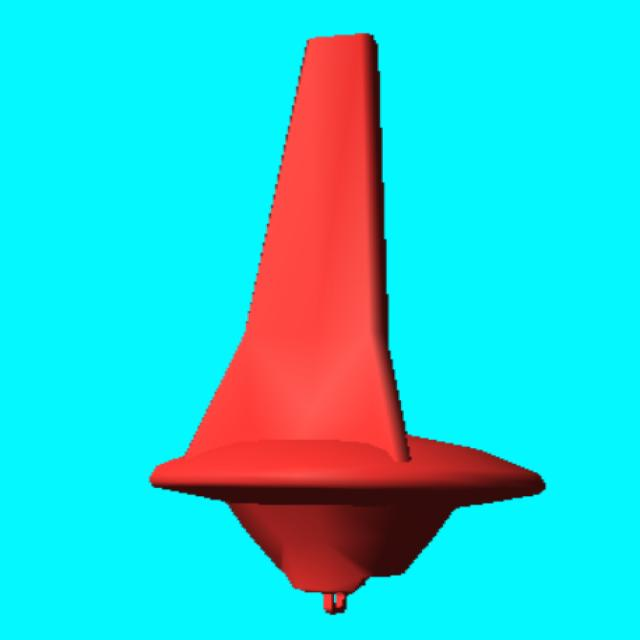RedBuoy: (150, 34, 544, 613)
